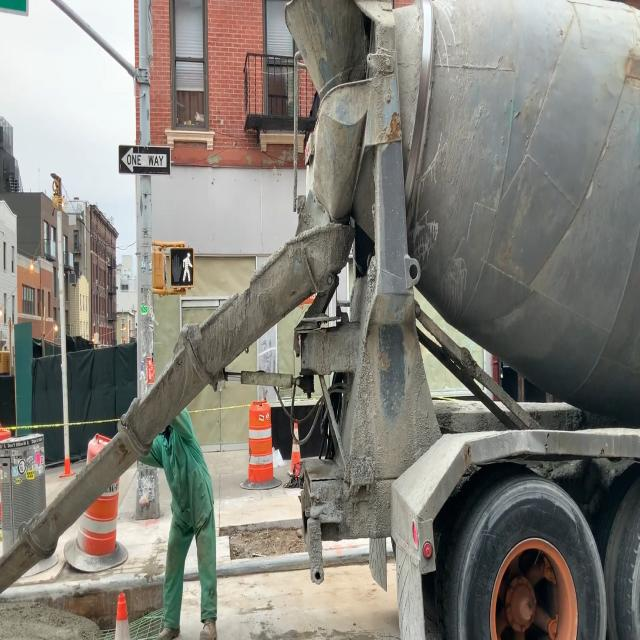machinery: (278, 0, 640, 640)
